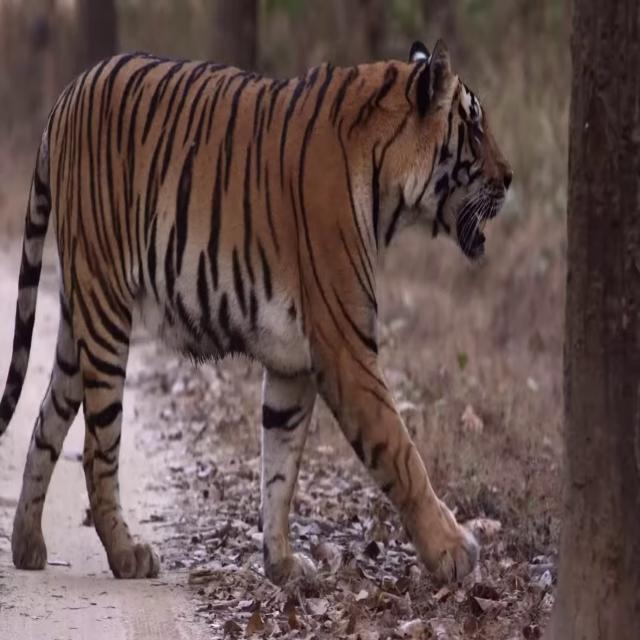tiger: (0, 32, 514, 584)
